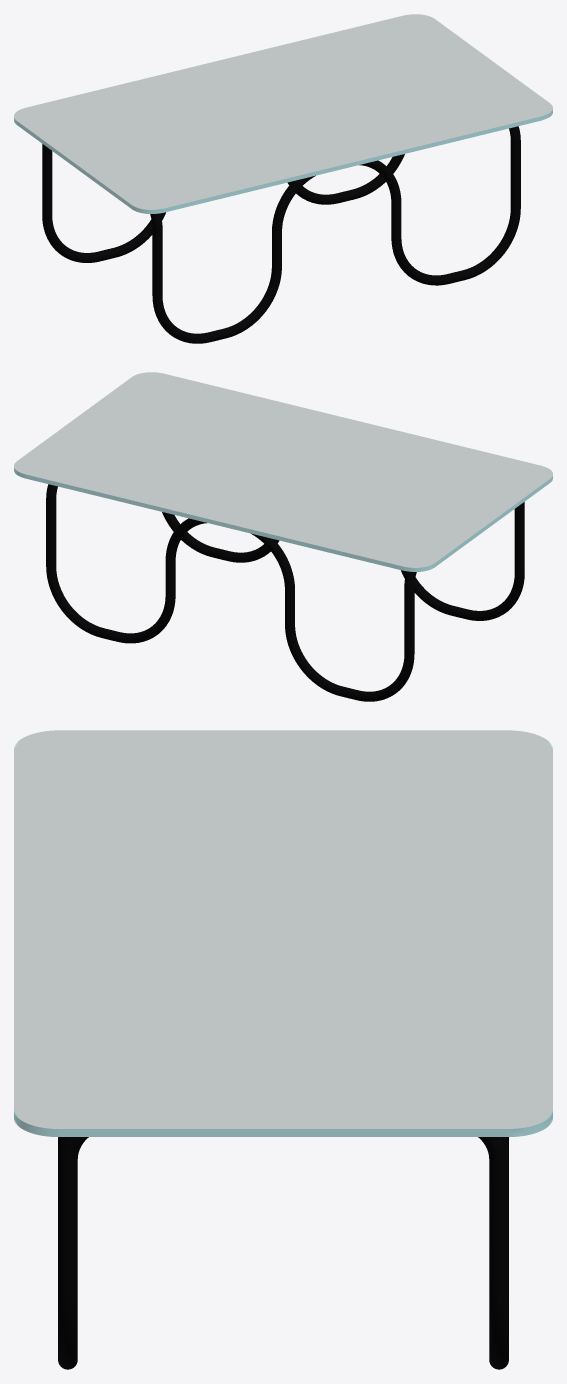
Rendered from BlackFriendlyWaveCoffeeTable_mv.glb.
The picture shows the model from 3 angles, top to bottom: view 1: azimuth 30°, elevation 25°; view 2: azimuth 150°, elevation 25°; view 3: azimuth 270°, elevation 25°; orthographic projection. The views are drawn at different scales.
Visible parts, largest first — view 1: BlackFreindlyWaveCoffeeTable3_Top, BlackFreindlyWaveCoffeeTable3_Leg; view 2: BlackFreindlyWaveCoffeeTable3_Top, BlackFreindlyWaveCoffeeTable3_Leg; view 3: BlackFreindlyWaveCoffeeTable3_Top, BlackFreindlyWaveCoffeeTable3_Leg.
Boxes of the visible parts, bbox=[...] form: BlackFreindlyWaveCoffeeTable3_Top: bbox=[14, 14, 552, 213]; BlackFreindlyWaveCoffeeTable3_Leg: bbox=[42, 126, 520, 343]; BlackFreindlyWaveCoffeeTable3_Top: bbox=[14, 372, 552, 571]; BlackFreindlyWaveCoffeeTable3_Leg: bbox=[46, 484, 524, 701]; BlackFreindlyWaveCoffeeTable3_Top: bbox=[14, 730, 552, 1136]; BlackFreindlyWaveCoffeeTable3_Leg: bbox=[58, 1137, 508, 1369].
Size of the model in its own units: 1.05 by 0.379 by 0.6.
